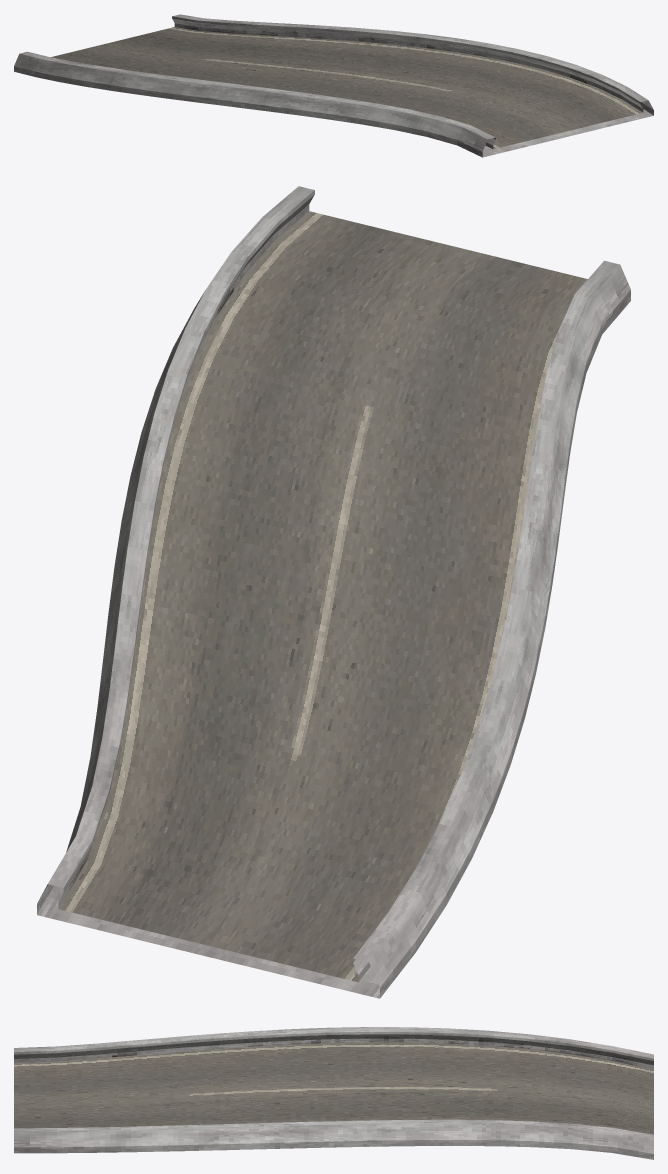
File: chicane-left1x3.glb
The picture shows the model from 3 angles, top to bottom: view 1: azimuth 30°, elevation 25°; view 2: azimuth 150°, elevation 25°; view 3: azimuth 270°, elevation 25°; orthographic projection. The views are drawn at different scales.
Parts seen in each view (by area): view 1: road-Chicane-Flat-BiSlopeDown-Down2-Left1-Size3; view 2: road-Chicane-Flat-BiSlopeDown-Down2-Left1-Size3; view 3: road-Chicane-Flat-BiSlopeDown-Down2-Left1-Size3.
Boxes of the visible parts, x1,y1,x2,y2 form: road-Chicane-Flat-BiSlopeDown-Down2-Left1-Size3: (14,14,653,157); road-Chicane-Flat-BiSlopeDown-Down2-Left1-Size3: (37,186,630,998); road-Chicane-Flat-BiSlopeDown-Down2-Left1-Size3: (14,1027,653,1159).
Bounding box in the file's own units: 2 × 0.5938 × 3.
Materials: 2 (2 with a texture image).
